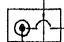Single Phase Tap-Off Unit: (5, 6, 63, 42)
